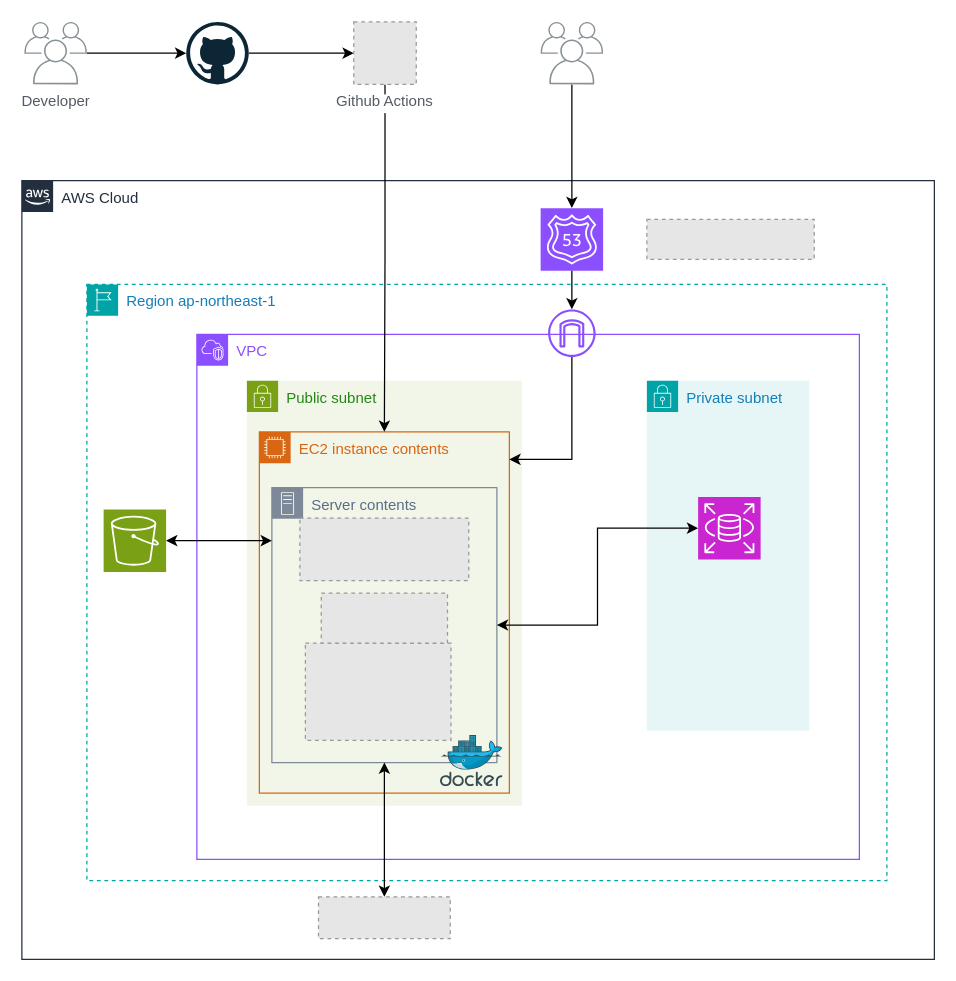
Image size: 956x981. Some labels were removed from this diagram. Grey dashed boxes stand in for pictures. The shapes that lost their labels are listed below. From the top down, each one's centre as x and y in pixels, then its label:
At [217,52]: "Github".
At [571,52]: "users".
At [571,332]: "Internet Gateway".
At [134,540]: "S3".
At [729,527]: "RDS for MySQL".
